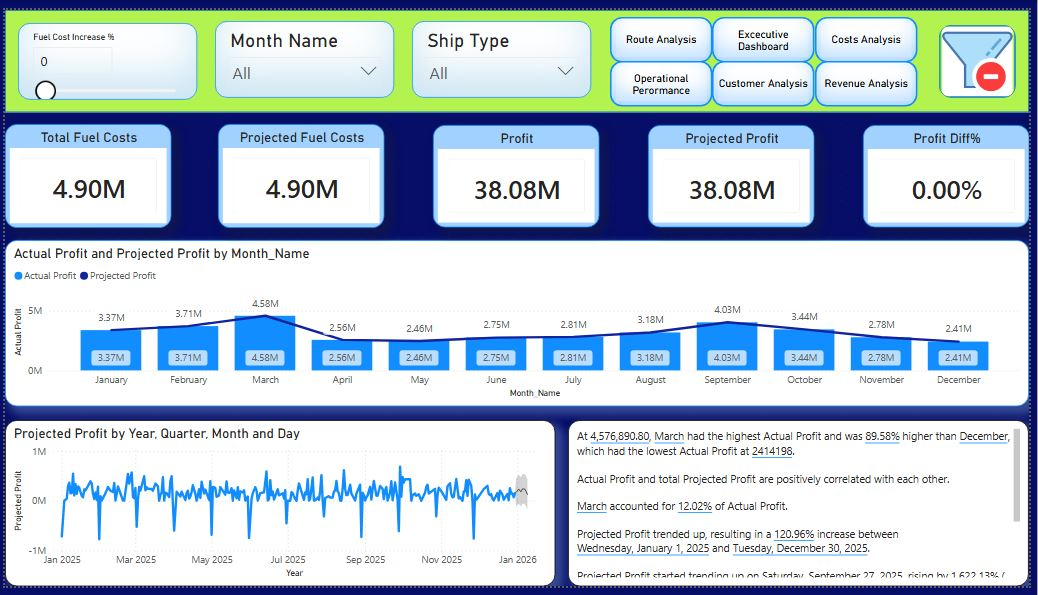

Layout of this report page (visuals, bound fields, positions):
{"tool":"powerbi","page":{"name":"07 Forecast","canvas":[1280,720],"ordinal":6},"visuals":[{"type":"shape","box":[0,0,1280,128],"z":0,"group":"g1"},{"type":"cardVisual","title":"Total Fuel Costs","fields":{"Data":["Measure.M_Total Fuel Costs"]},"box":[0,142.6,208,130],"z":0},{"type":"image","box":[1168,18.3,96,91.4],"z":1000,"group":"g1"},{"type":"slicer","fields":{"Values":["Dim_Ships.Ship_Type"]},"box":[508.5,14.2,224,96],"z":2000,"group":"g1"},{"type":"cardVisual","title":"Profit Diff%","fields":{"Data":["Parameter.M_Profit Difference %"]},"box":[1072,144,208,128],"z":2000},{"type":"slicer","fields":{"Values":["Calender.Month_Name"]},"box":[262.2,14.2,224,96],"z":3000,"group":"g1"},{"type":"lineClusteredColumnComboChart","fields":{"Category":["Calender.Month_Name"],"Y":["Measure.M_Profit"],"Y2":["Parameter.M_Projected Profit"]},"box":[0,288,1280,208],"z":3000},{"type":"shape","box":[756.2,8.6,128,57.1],"z":4000,"group":"g1"},{"type":"cardVisual","title":"Projected Fuel Costs","fields":{"Data":["Parameter.New Operational Costs"]},"box":[266.6,142.6,208,130],"z":4000},{"type":"shape","box":[884.2,8.6,128,57.1],"z":5000,"group":"g1"},{"type":"cardVisual","title":"Projected Profit","fields":{"Data":["Parameter.M_Projected Profit"]},"box":[803.5,144,208,128],"z":5000},{"type":"shape","box":[1012.2,8.6,128,57.1],"z":6000,"group":"g1"},{"type":"cardVisual","title":"Profit","fields":{"Data":["Measure.M_Profit"]},"box":[535.1,144,208,128],"z":6000},{"type":"shape","box":[756.2,63.4,128,57.1],"z":7000,"group":"g1"},{"type":"lineChart","fields":{"Y":["Parameter Fuel Costs Increase.M_Projected Profit"],"Category":["Calender.Date.Variation.Date Hierarchy.Year","Calender.Date.Variation.Date Hierarchy.Quarter","Calender.Date.Variation.Date Hierarchy.Month","Calender.Date.Variation.Date Hierarchy.Day"]},"box":[0,512,688,208],"z":7000},{"type":"shape","box":[884.2,63.4,128,57.1],"z":8000,"group":"g1"},{"type":"textbox","box":[704,512,576,208],"z":8000},{"type":"shape","box":[1012.2,63.4,128,57.1],"z":9000,"group":"g1"},{"type":"group","id":"g1","title":"Group 2","box":[0,0,1280,128],"z":11001},{"type":"slicer","fields":{"Values":["Parameter.Parameter"]},"box":[16,16,224,96],"z":11501}]}

Visuals, with their boxes in screenshot pixels (x1, y1, x2, y2), scaled from the page's 1280x720 canvas onto the 1038x595 screenshot:
shape: (0,0,1037,106)
"Total Fuel Costs" cardVisual: (0,118,169,225)
image: (947,15,1025,91)
slicer - Dim_Ships.Ship_Type: (412,12,594,91)
"Profit Diff%" cardVisual: (869,119,1037,225)
slicer - Calender.Month_Name: (213,12,394,91)
lineClusteredColumnComboChart - Calender.Month_Name x Measure.M_Profit: (0,238,1037,410)
shape: (613,7,717,54)
"Projected Fuel Costs" cardVisual: (216,118,385,225)
shape: (717,7,821,54)
"Projected Profit" cardVisual: (652,119,820,225)
shape: (821,7,925,54)
"Profit" cardVisual: (434,119,603,225)
shape: (613,52,717,100)
lineChart - Parameter Fuel Costs Increase.M_Projected Profit x Calender.Date.Variation.Date Hierarchy.Year: (0,423,558,594)
shape: (717,52,821,100)
textbox: (571,423,1037,594)
shape: (821,52,925,100)
"Group 2" group: (0,0,1037,106)
slicer - Parameter.Parameter: (13,13,195,93)
